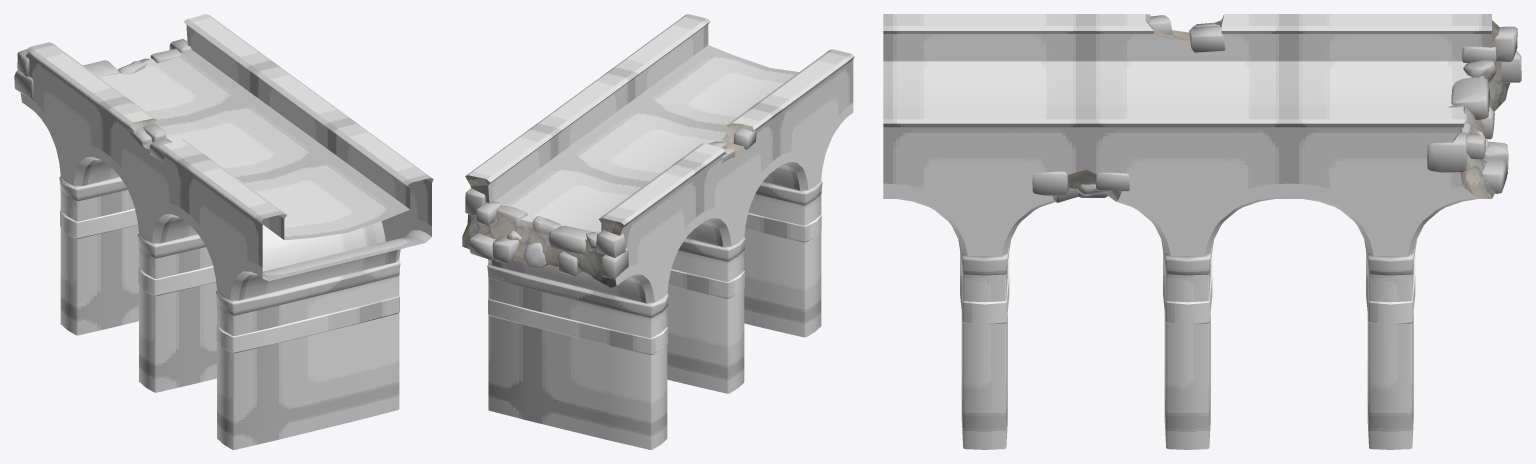
The model's file is SM_Aqueduct_02_Broken.fbx.
3 renders of one model, left to right at view 1: azimuth 30°, elevation 25°; view 2: azimuth 150°, elevation 25°; view 3: azimuth 270°, elevation 25°, orthographic. The views are drawn at different scales.
Visible parts, largest first — view 1: SM_Aqueduct_02_Broken_LOD0; view 2: SM_Aqueduct_02_Broken_LOD0; view 3: SM_Aqueduct_02_Broken_LOD0.
Boxes of the visible parts, x1,y1,x2,y2 form: SM_Aqueduct_02_Broken_LOD0: (14, 14, 433, 449); SM_Aqueduct_02_Broken_LOD0: (462, 14, 854, 449); SM_Aqueduct_02_Broken_LOD0: (883, 14, 1521, 449).
Size of the model in its own units: 520 by 1258 by 717.
